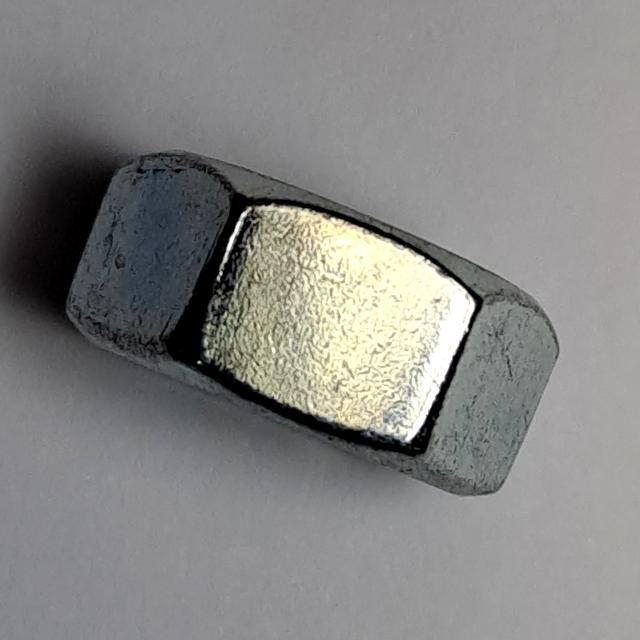Side_Excellent: (62, 141, 571, 509)
